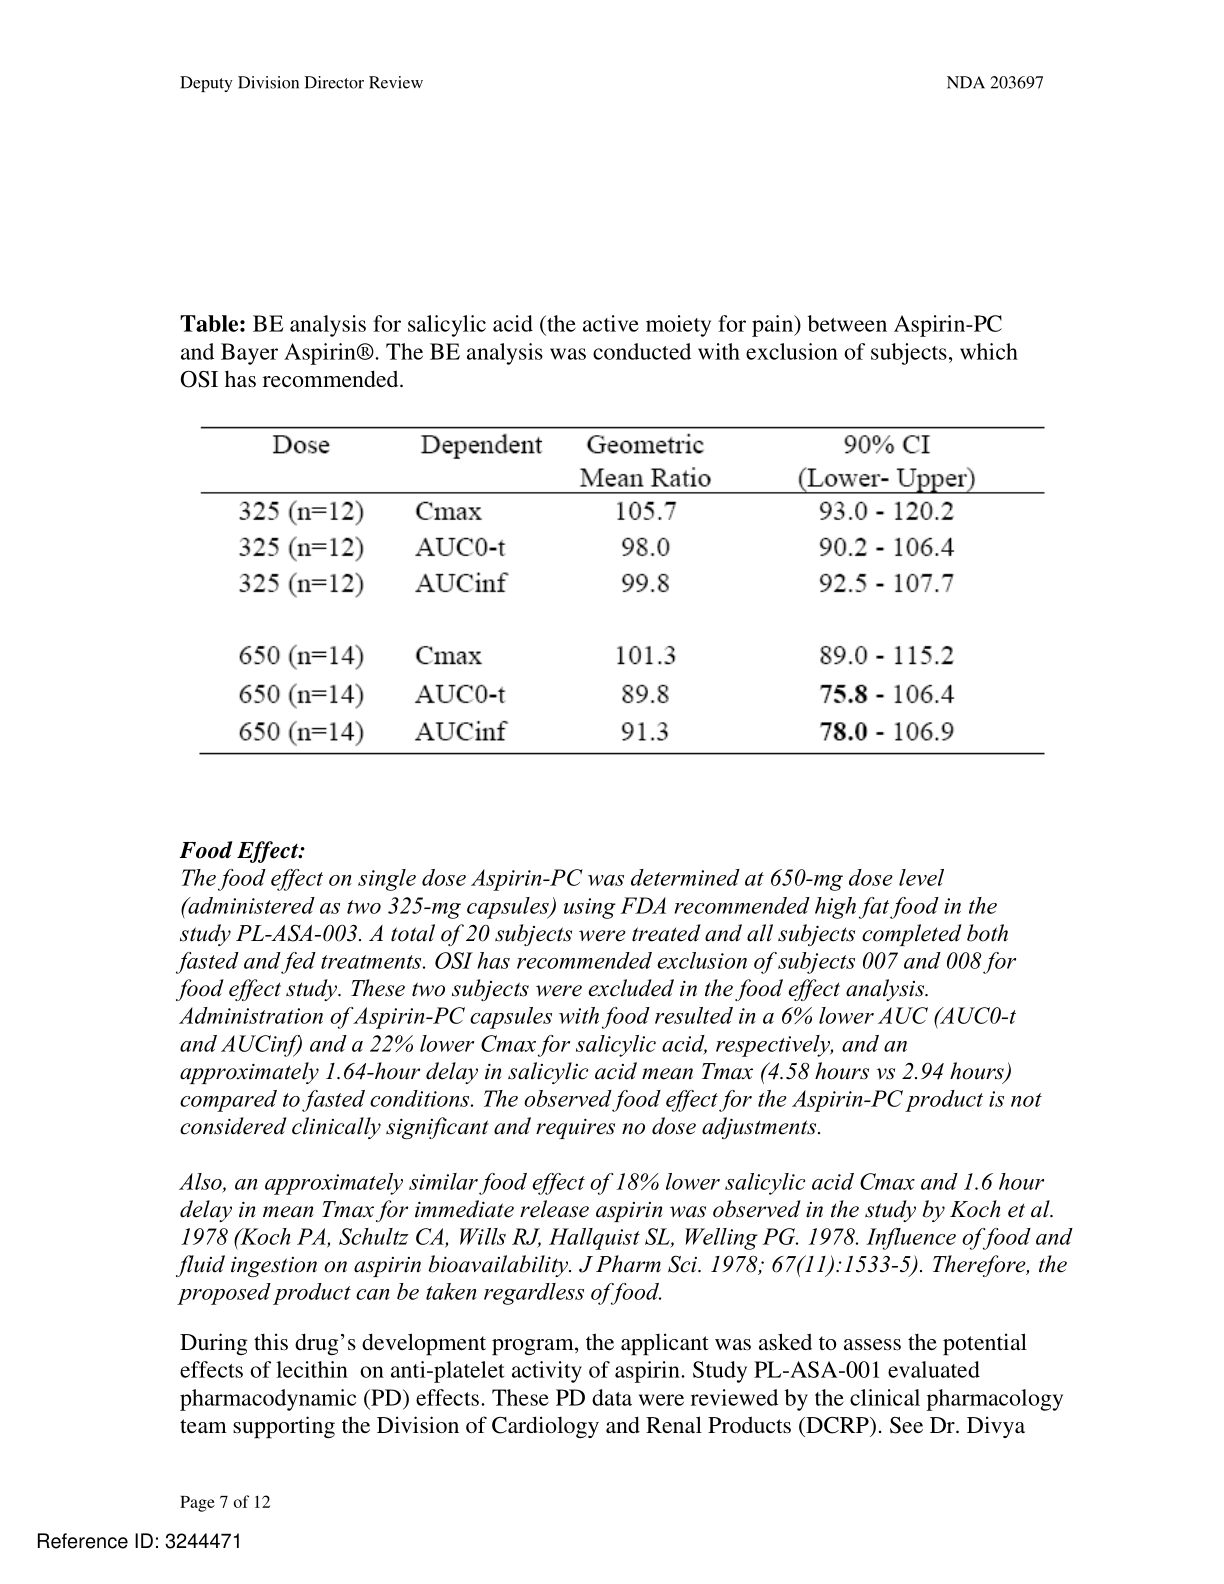partial_lined: (198, 426, 1048, 757)
